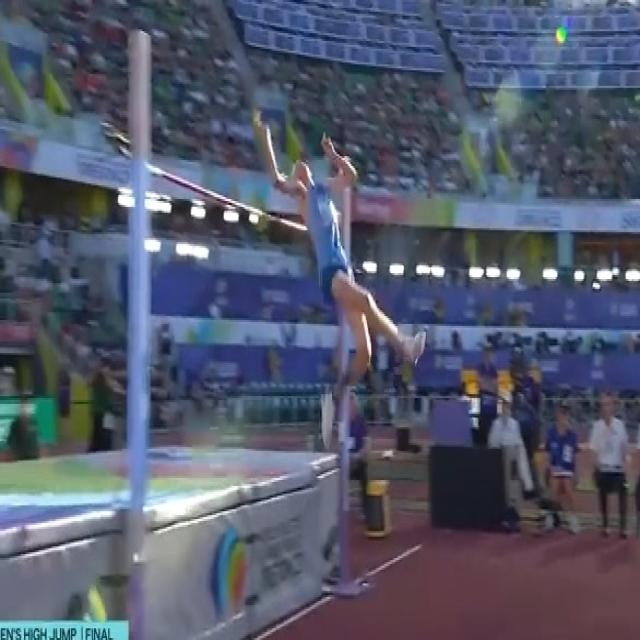jump: (254, 105, 428, 453)
